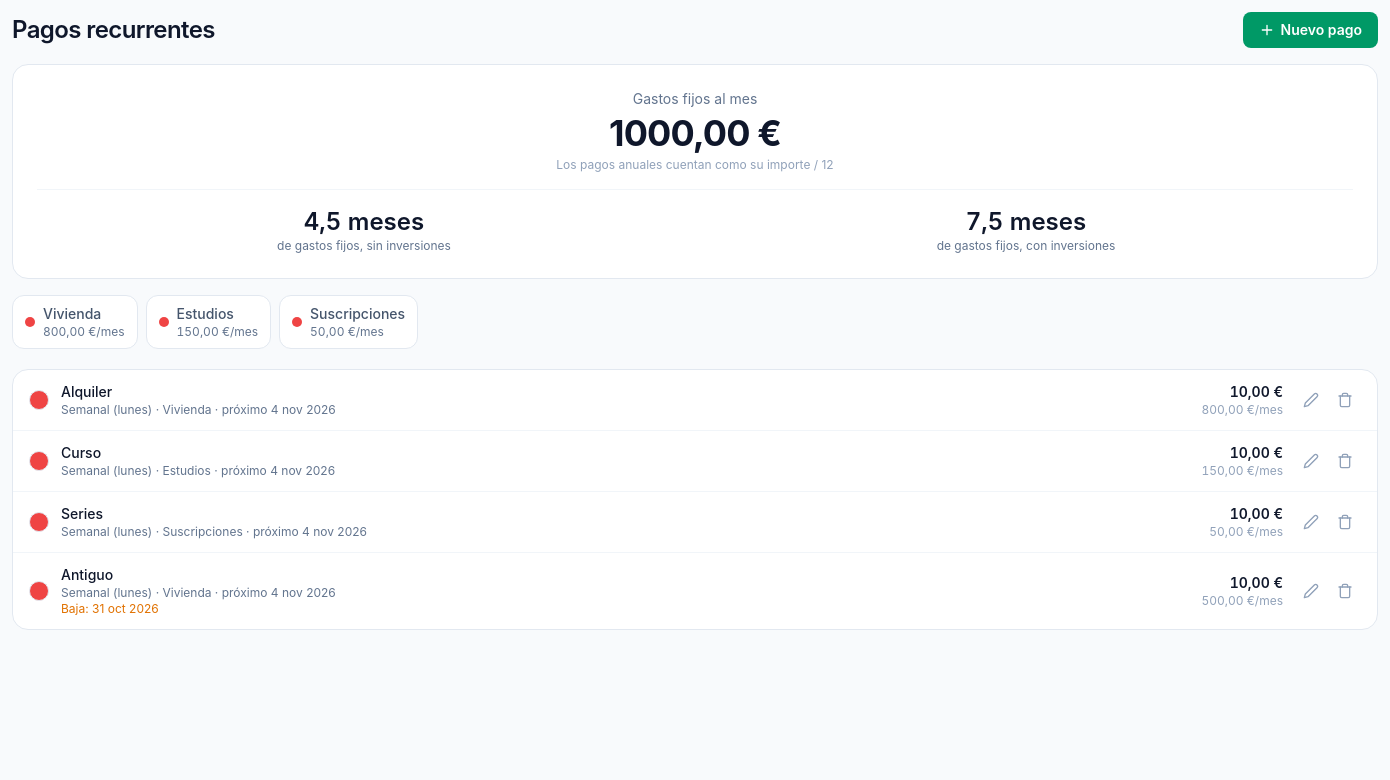
RecurringPage › fixed costs › shows the total per category and filters by several at once
Expected: the button "Vivienda 800,00 €/mes" is shown, x1=12 y1=295 x2=138 y2=349
Step 1. Click the button "Estudios 150,00 €/mes" → click(208, 322), box x1=146 y1=295 x2=271 y2=349
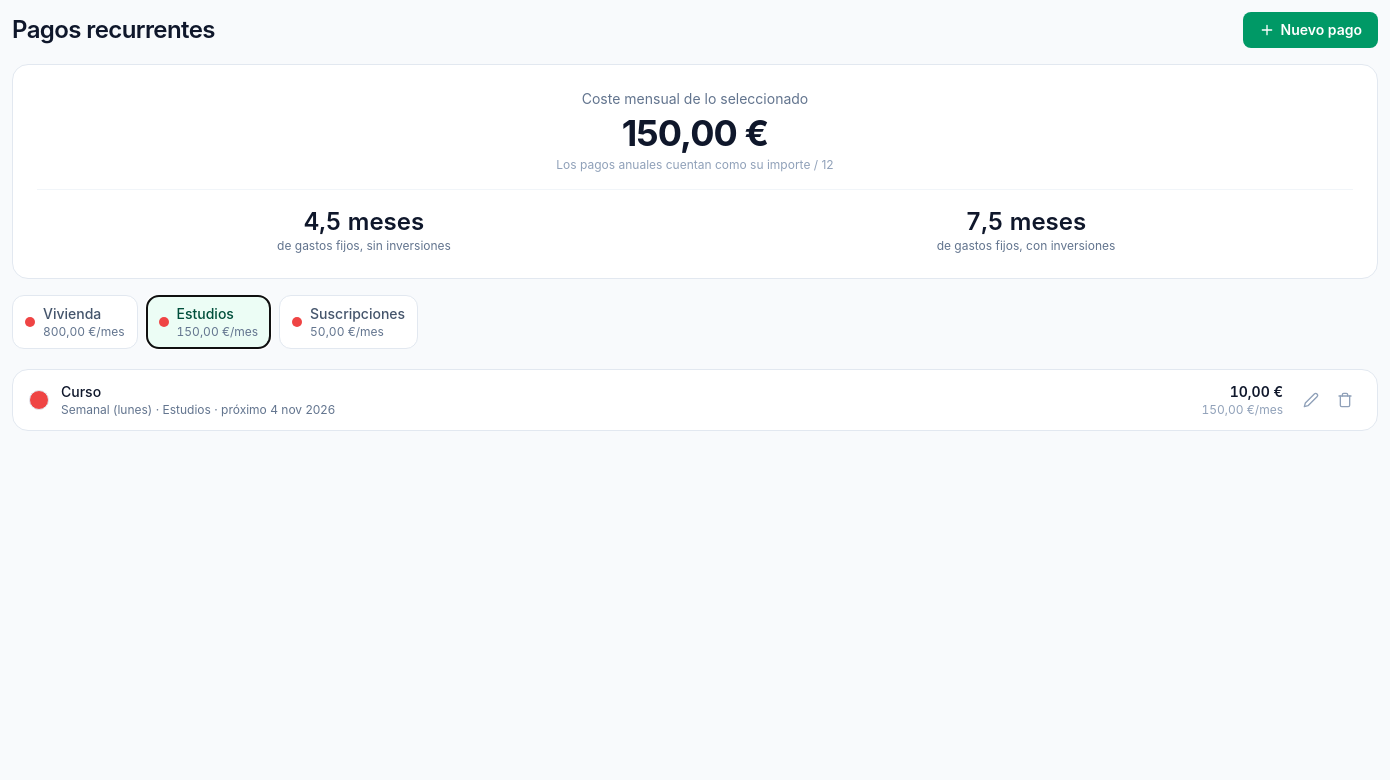
Step 2. Click the button "Suscripciones 50,00 €/mes" → click(349, 322), box x1=279 y1=295 x2=418 y2=349
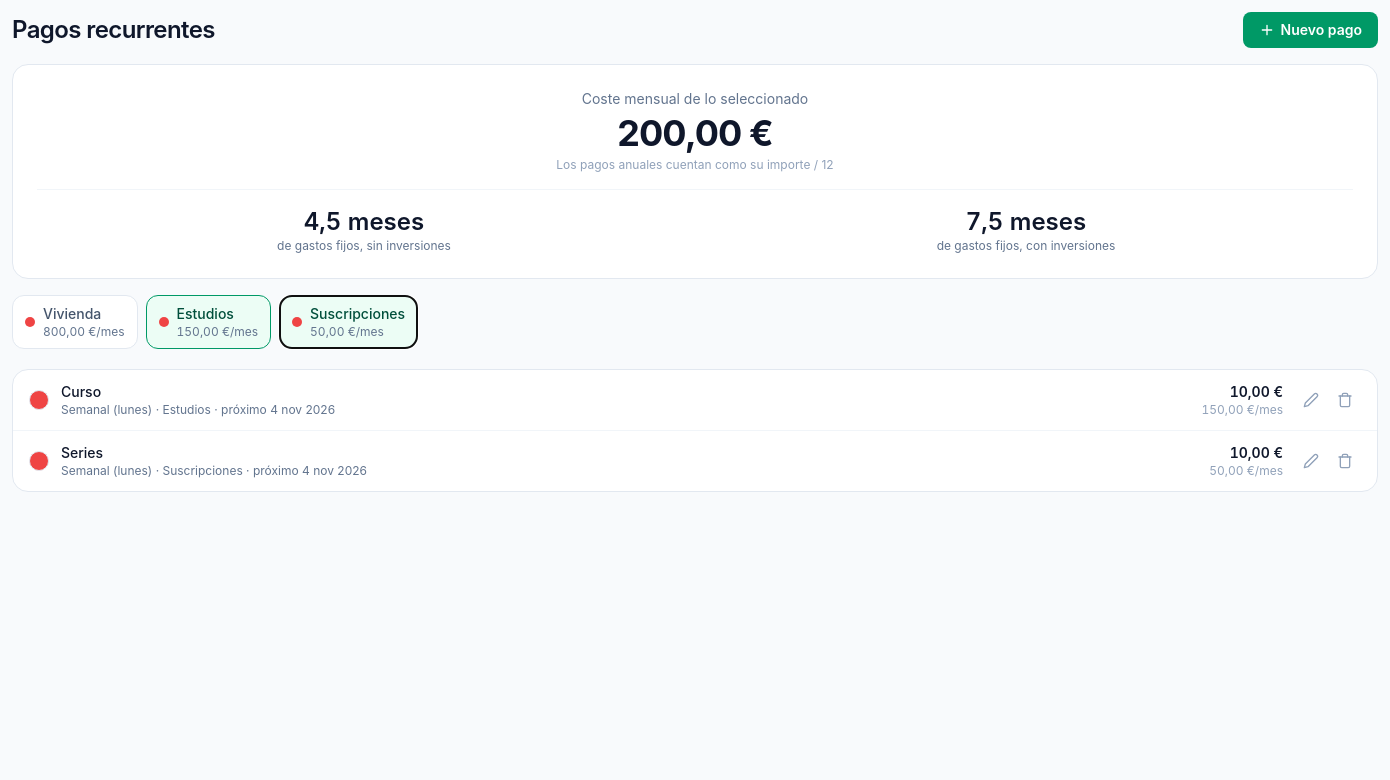
Expected: the text "Curso" is shown, x1=61 y1=382 x2=101 y2=402
Expected: the text "Series" is shown, x1=61 y1=443 x2=103 y2=463
Expected: the text "200,00" is shown, x1=617 y1=111 x2=773 y2=155
Step 3. Click the button "Estudios 150,00 €/mes" → click(208, 322), box x1=146 y1=295 x2=271 y2=349
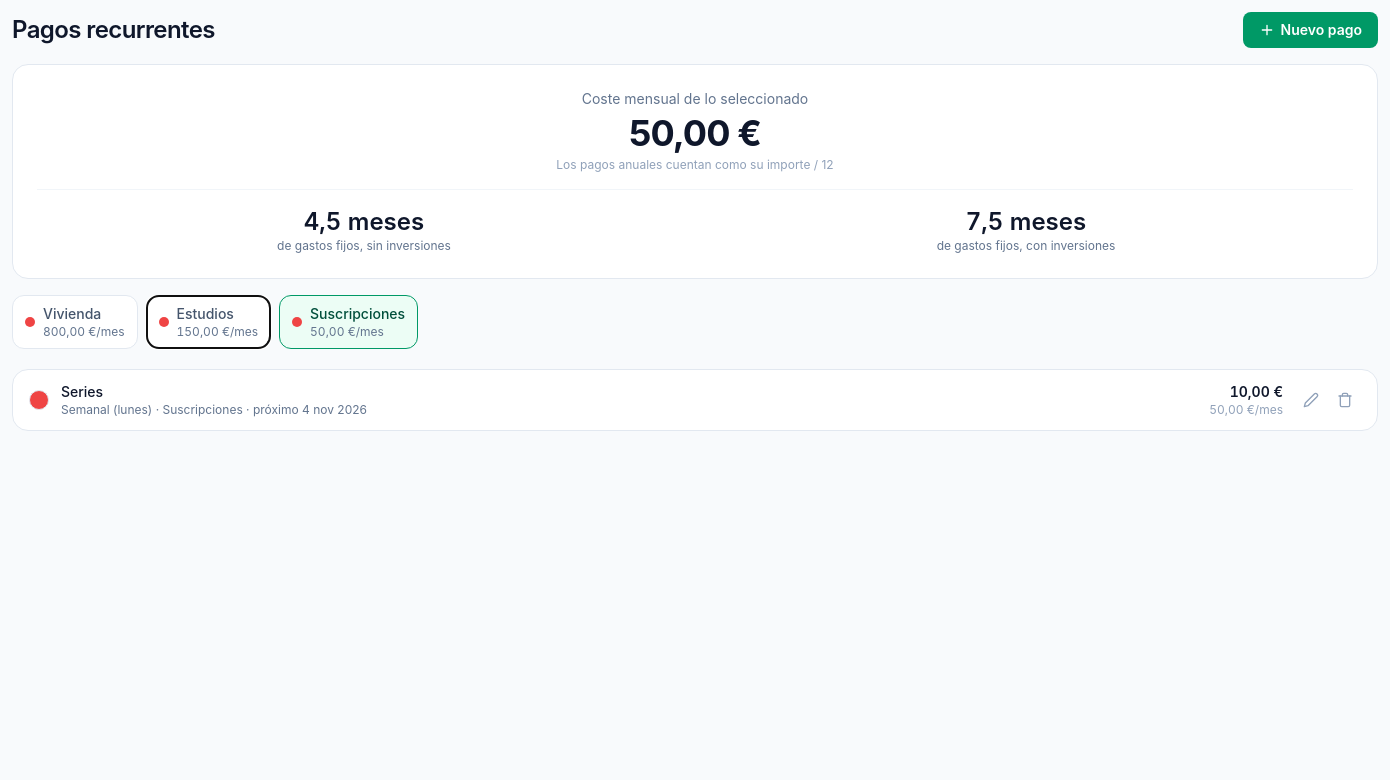
Step 4. Click the button "Suscripciones 50,00 €/mes" → click(349, 322), box x1=279 y1=295 x2=418 y2=349
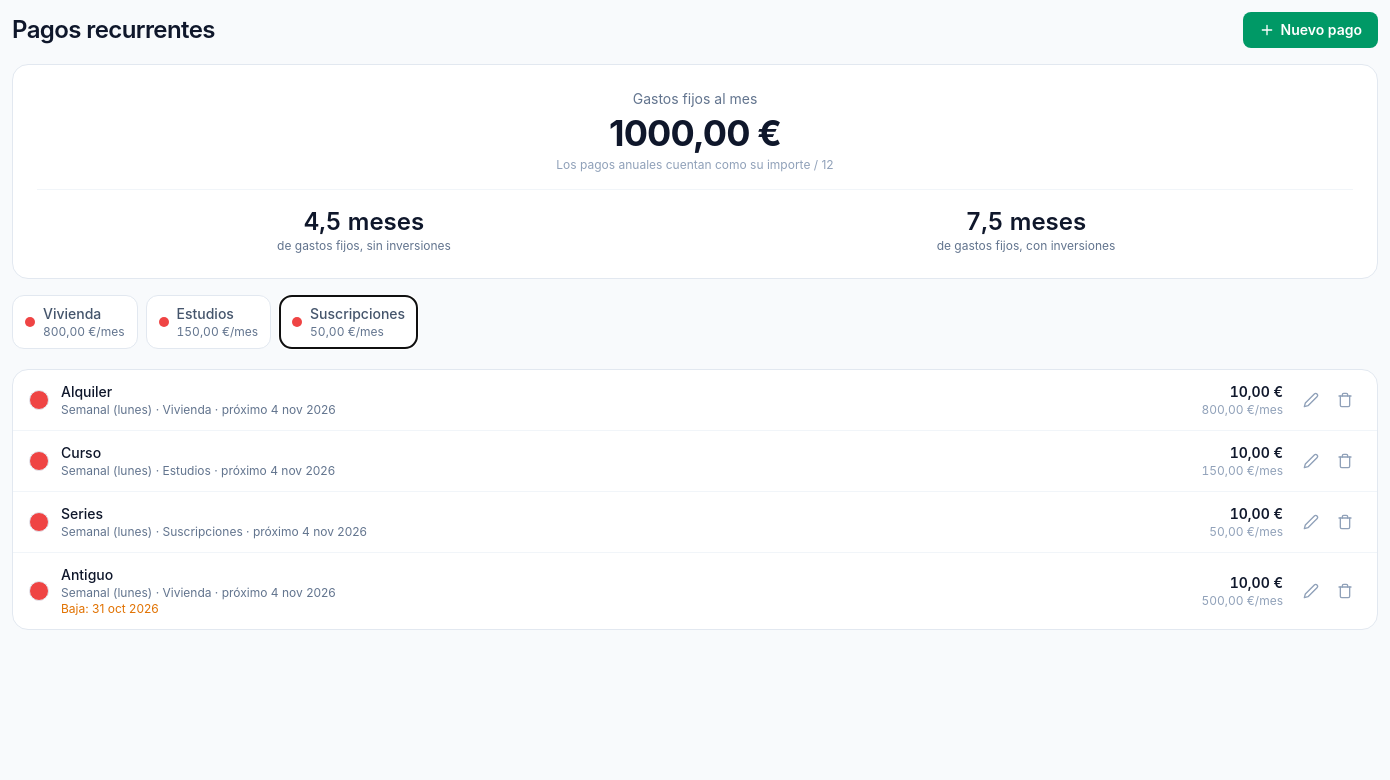
Expected: the text "Alquiler" is shown, x1=61 y1=382 x2=112 y2=402
